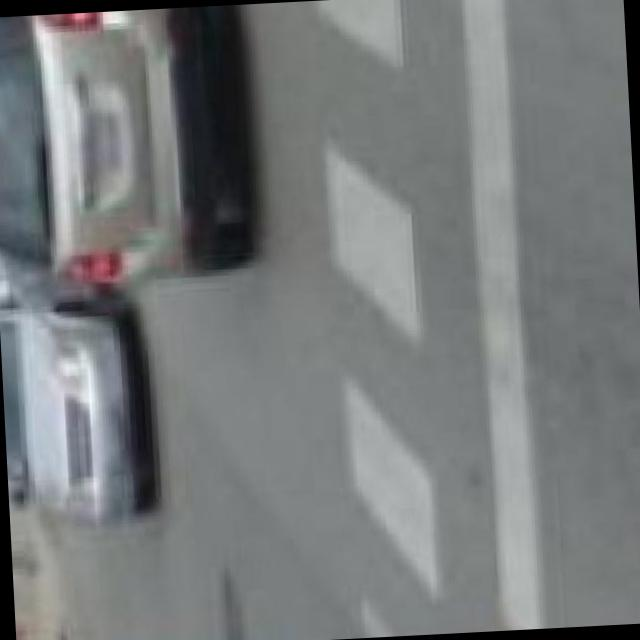zebra: (306, 0, 558, 639)
